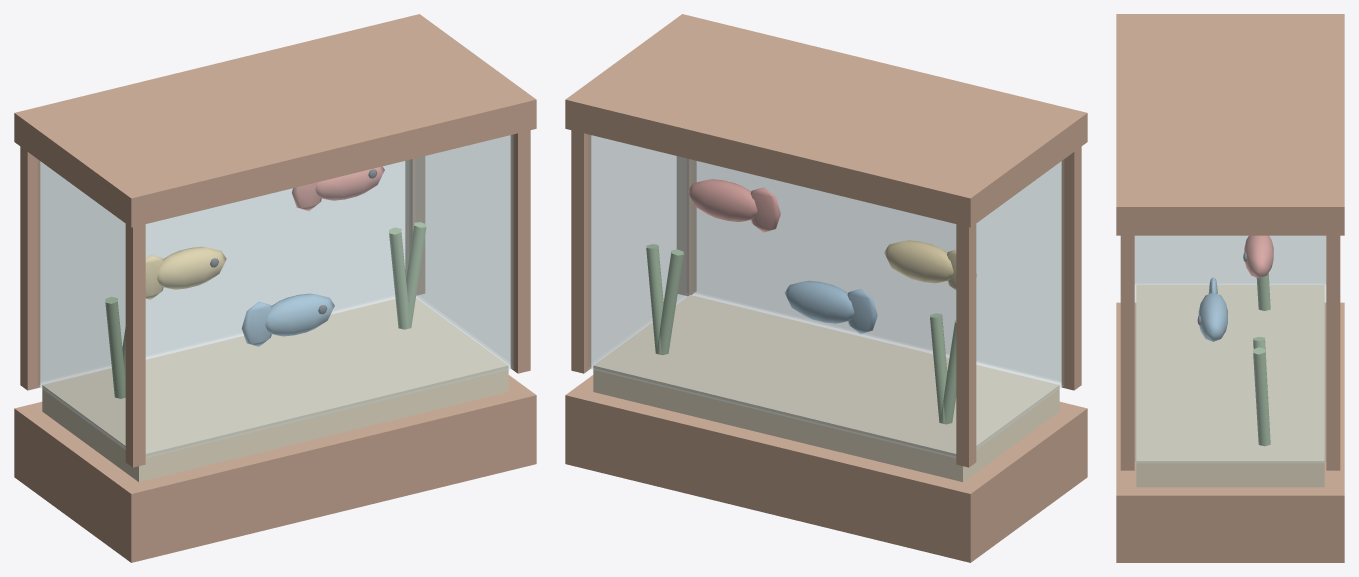
File: 08_acuario.glb
The picture shows the model from 3 angles, left to right: view 1: azimuth 30°, elevation 25°; view 2: azimuth 150°, elevation 25°; view 3: azimuth 270°, elevation 25°; orthographic projection. The views are drawn at different scales.
Visible parts, largest first — view 1: body (×4), fish2, fish0, fish1; view 2: body (×4), fish1, fish2, fish0; view 3: body (×4), fish2, fish1.
Boxes of the visible parts, left/top/right/bottom form: body (×4): left=14, top=14, right=536, bottom=562; fish2: left=242, top=293, right=334, bottom=346; fish0: left=145, top=246, right=226, bottom=299; fish1: left=292, top=166, right=384, bottom=210; body (×4): left=565, top=14, right=1087, bottom=562; fish1: left=688, top=179, right=780, bottom=232; fish2: left=785, top=280, right=877, bottom=333; fish0: left=884, top=240, right=976, bottom=290; body (×4): left=1116, top=14, right=1344, bottom=562; fish2: left=1198, top=277, right=1227, bottom=341; fish1: left=1244, top=235, right=1273, bottom=278.
Bounding box in the file's own units: 0.8 × 0.6875 × 0.4.
